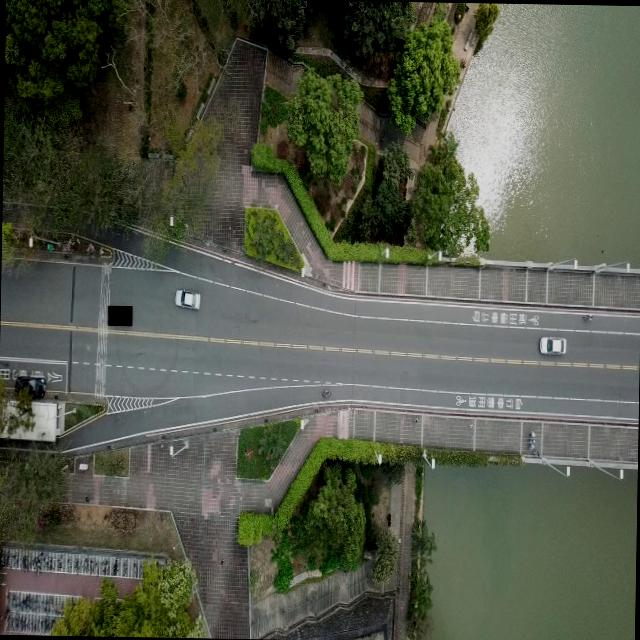bike: (320, 385, 330, 397)
car: (167, 277, 203, 314), (13, 374, 45, 400), (538, 333, 566, 356)
